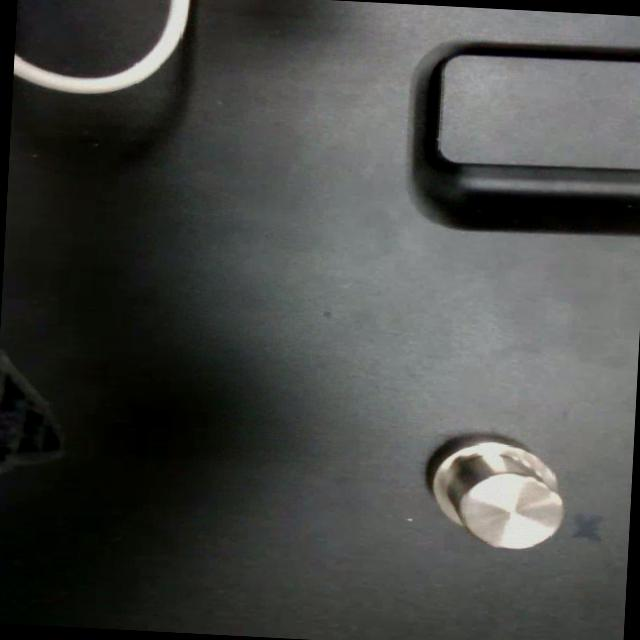sensor: (424, 434, 572, 556)
